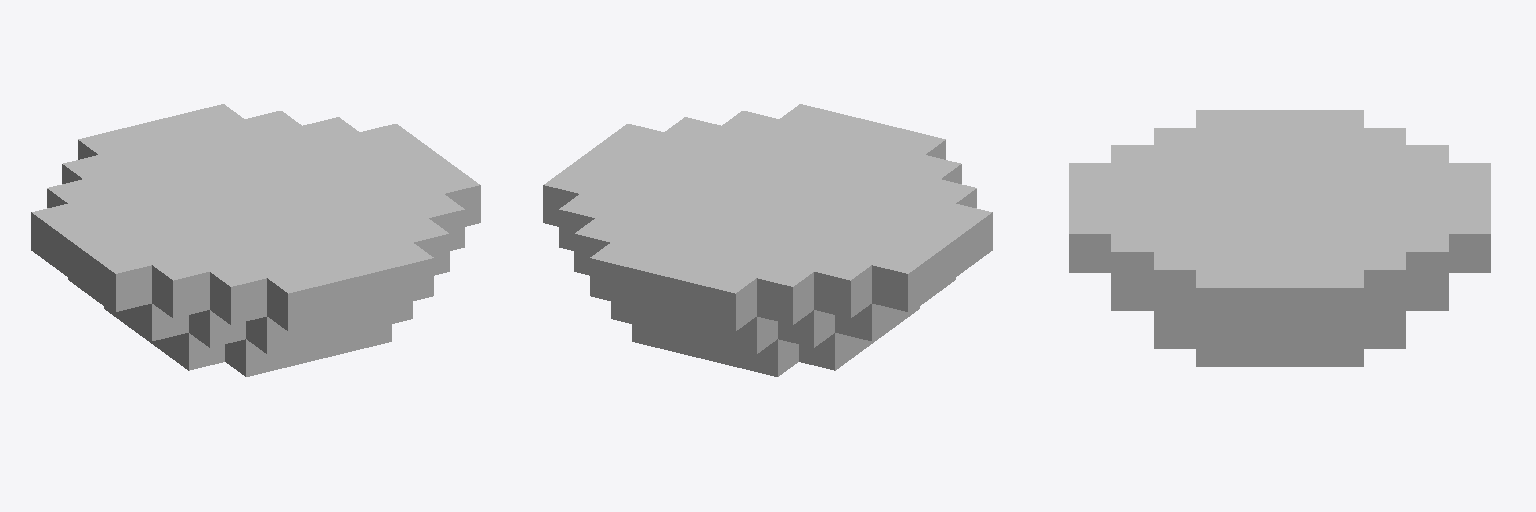
Rendered from hardcook_wooden_bowl_fill.obj.
The picture shows the model from 3 angles: view 1: azimuth 30°, elevation 25°; view 2: azimuth 150°, elevation 25°; view 3: azimuth 270°, elevation 25°; orthographic projection.
Visible parts, largest first — view 1: node_0_0_0, node_0_0_0.001; view 2: node_0_0_0, node_0_0_0.001; view 3: node_0_0_0, node_0_0_0.001.
Part boxes in pixels (x1,y1,x2,y2): node_0_0_0: (31,104,480,376); node_0_0_0.001: (68,119,442,277); node_0_0_0: (543,104,992,376); node_0_0_0.001: (581,119,955,277); node_0_0_0: (1069,110,1490,366); node_0_0_0.001: (1111,128,1448,269).
Bounding box in the file's own units: 0.625 × 0.1875 × 0.625.